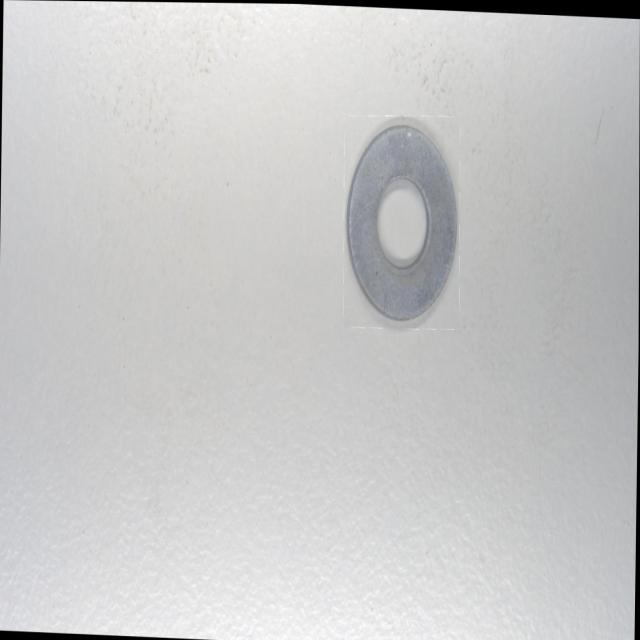washer: (344, 114, 460, 326)
